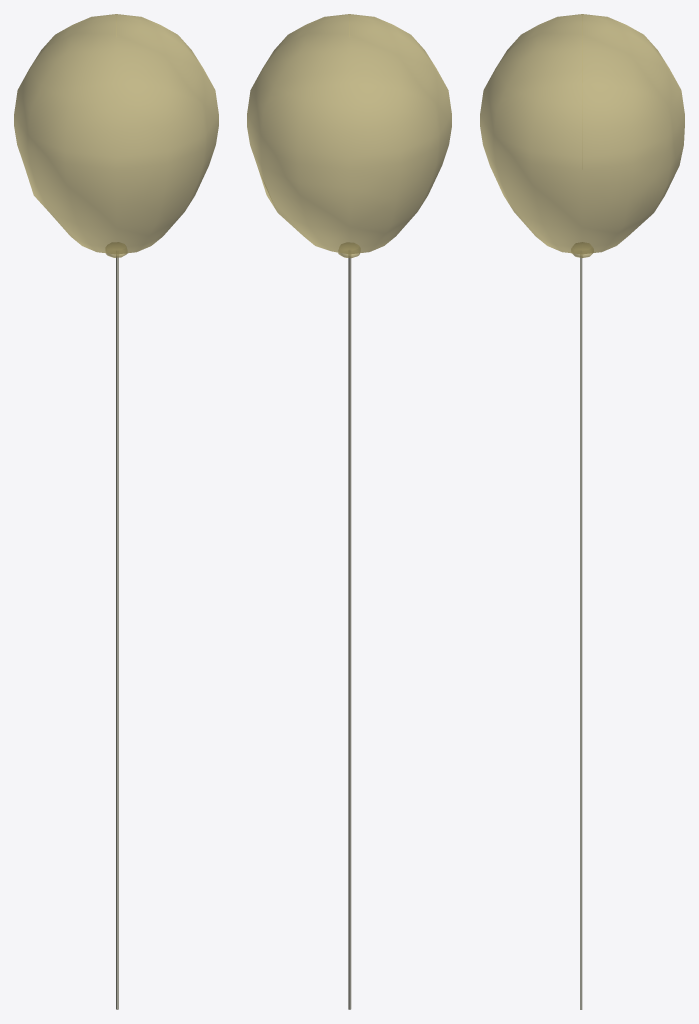
The model's file is Balloon_Yellow.fbx.
3 views of the same model, side by side, from view 1: azimuth 30°, elevation 25°; view 2: azimuth 150°, elevation 25°; view 3: azimuth 270°, elevation 25° (orthographic).
Parts seen in each view (by area): view 1: Balloon_Yellow; view 2: Balloon_Yellow; view 3: Balloon_Yellow.
Boxes of the visible parts, box(x1,y1,x2,y2) form: Balloon_Yellow: box(14, 14, 218, 1009); Balloon_Yellow: box(247, 14, 451, 1009); Balloon_Yellow: box(480, 14, 684, 1009).
Bounding box in the file's own units: 49.42 × 263 × 49.42.
